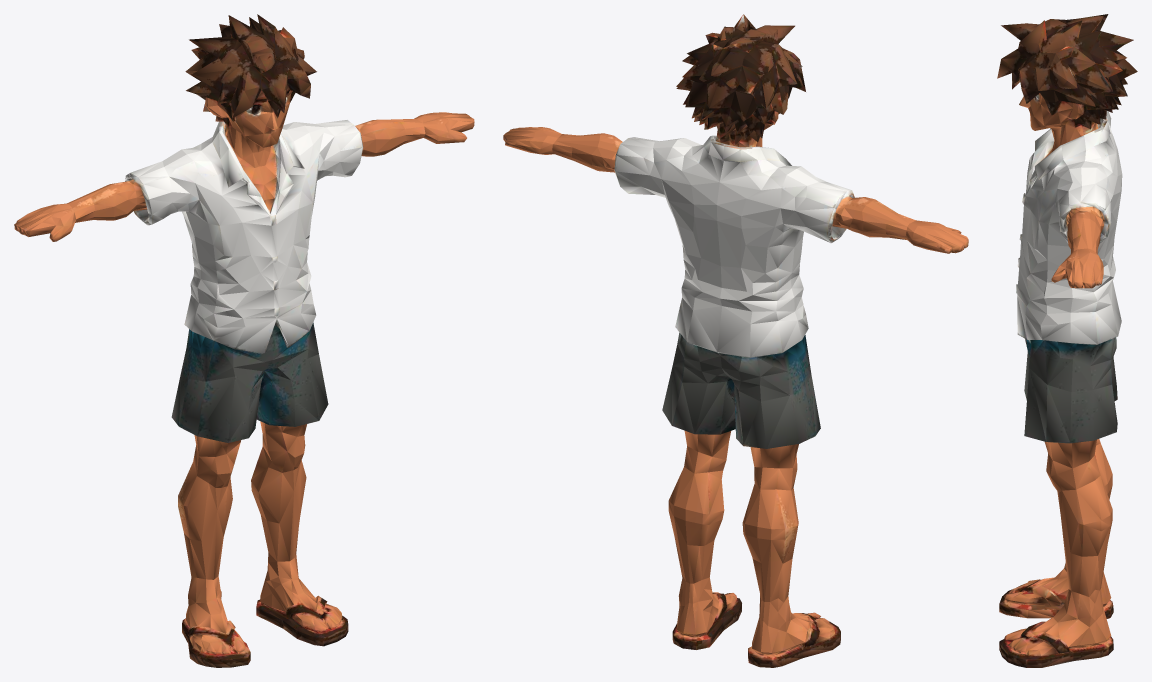
File: modello.glb
The picture shows the model from 3 angles, left to right: view 1: azimuth 30°, elevation 25°; view 2: azimuth 150°, elevation 25°; view 3: azimuth 270°, elevation 25°; orthographic projection.
Parts seen in each view (by area): view 1: material; view 2: material; view 3: material.
Boxes of the visible parts, x1,y1,x2,y2 form: material: (14, 14, 474, 667); material: (503, 14, 968, 667); material: (997, 14, 1137, 667).
Bounding box in the file's own units: 1.32 × 1.7 × 0.3512.
Materials: 1 (1 with a texture image).
